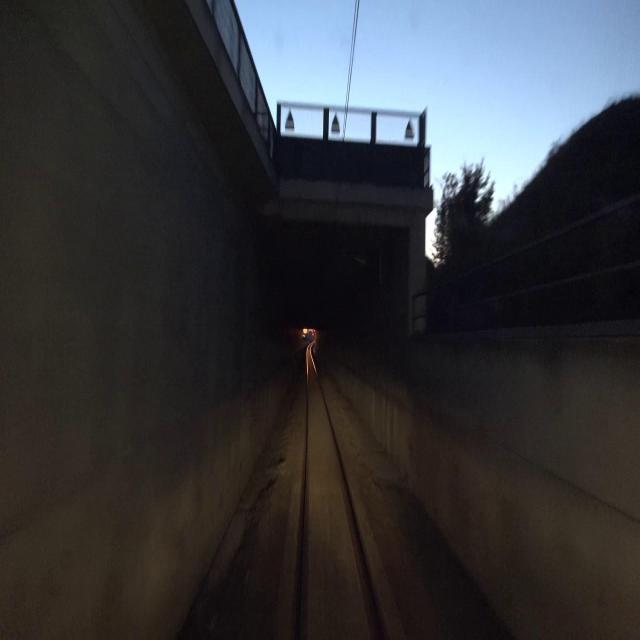rail-track: (303, 353, 383, 639)
